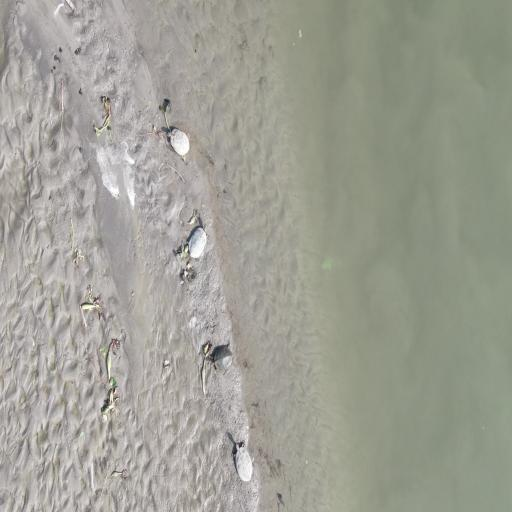turtle: (232, 438, 254, 483), (167, 124, 191, 165), (188, 220, 209, 258), (210, 344, 234, 372)
